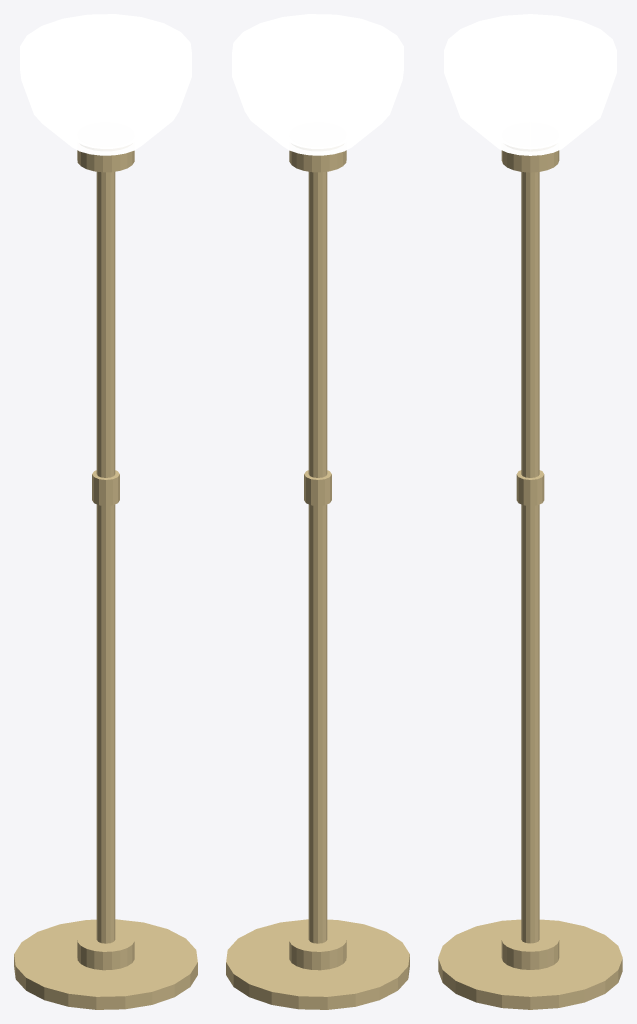
The model's file is X14_ARCH_Torchere_Lamp.glb.
3 renders of one model, left to right at view 1: azimuth 30°, elevation 25°; view 2: azimuth 150°, elevation 25°; view 3: azimuth 270°, elevation 25°, orthographic.
Visible parts, largest first — view 1: X14_ARCH_Torchere_Lamp_LOD0, X14_ARCH_Torchere_Lamp_Glass_LOD0; view 2: X14_ARCH_Torchere_Lamp_LOD0, X14_ARCH_Torchere_Lamp_Glass_LOD0; view 3: X14_ARCH_Torchere_Lamp_LOD0, X14_ARCH_Torchere_Lamp_Glass_LOD0.
Part boxes in pixels (left/top/right/bottom): X14_ARCH_Torchere_Lamp_LOD0: left=14, top=150, right=197, bottom=1009; X14_ARCH_Torchere_Lamp_Glass_LOD0: left=20, top=14, right=191, bottom=155; X14_ARCH_Torchere_Lamp_LOD0: left=226, top=150, right=409, bottom=1009; X14_ARCH_Torchere_Lamp_Glass_LOD0: left=232, top=14, right=403, bottom=155; X14_ARCH_Torchere_Lamp_LOD0: left=438, top=150, right=622, bottom=1009; X14_ARCH_Torchere_Lamp_Glass_LOD0: left=444, top=14, right=616, bottom=155.
Size of what is drawn, in the model's own units: 0.32 by 1.76 by 0.32.
